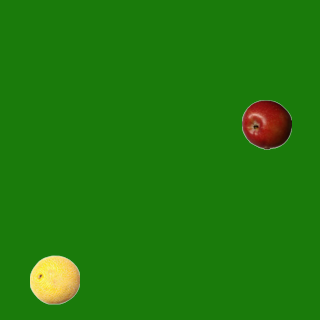Apple Braeburn: (241, 99, 291, 149)
Cantaloupe 1: (29, 254, 79, 304)
